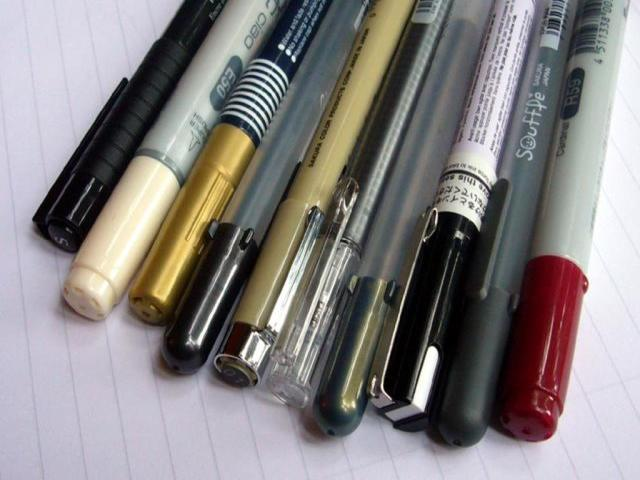PEN: (501, 6, 633, 448), (425, 0, 538, 451), (359, 6, 459, 434), (24, 8, 155, 247)
